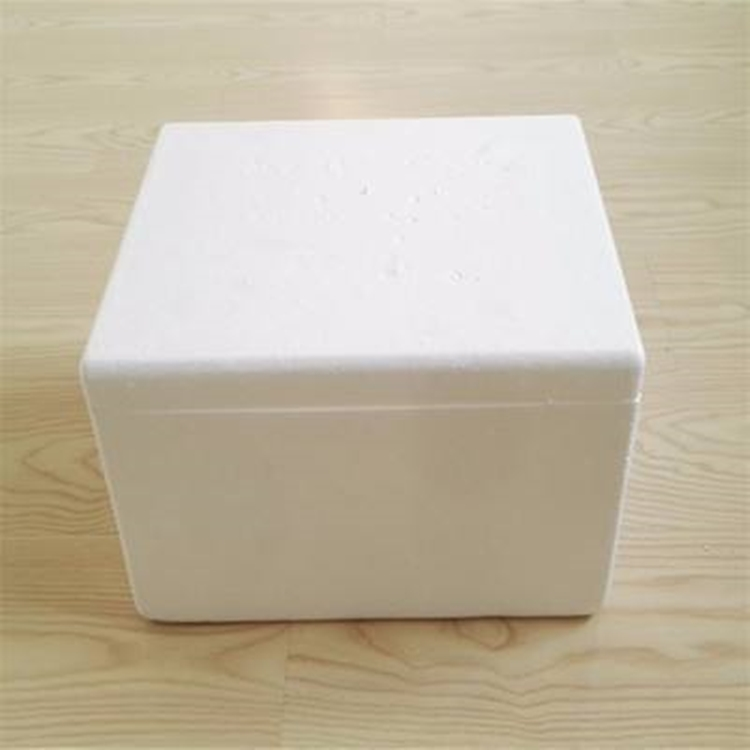泡沫箱: (83, 116, 643, 622)
